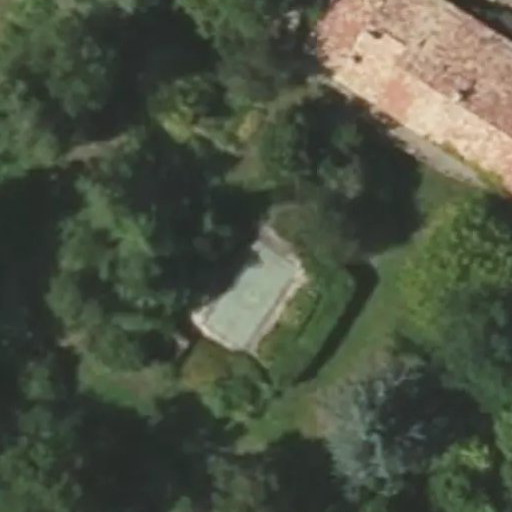pool: (225, 235, 288, 248)
